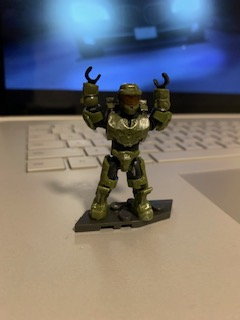chief: (79, 64, 173, 222)
spartan: (77, 62, 171, 220)
up: (80, 63, 168, 150)
